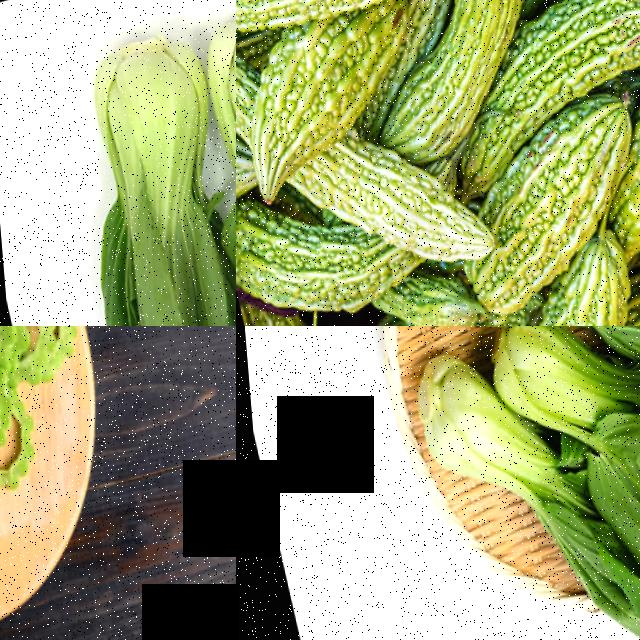bitter gourd: (452, 142, 640, 326), (236, 11, 389, 209), (473, 0, 640, 158), (363, 0, 518, 169), (336, 130, 443, 310), (236, 178, 342, 326), (236, 0, 470, 57)
bok choy: (59, 17, 236, 326), (367, 373, 562, 640), (522, 326, 640, 610), (169, 0, 236, 326)
